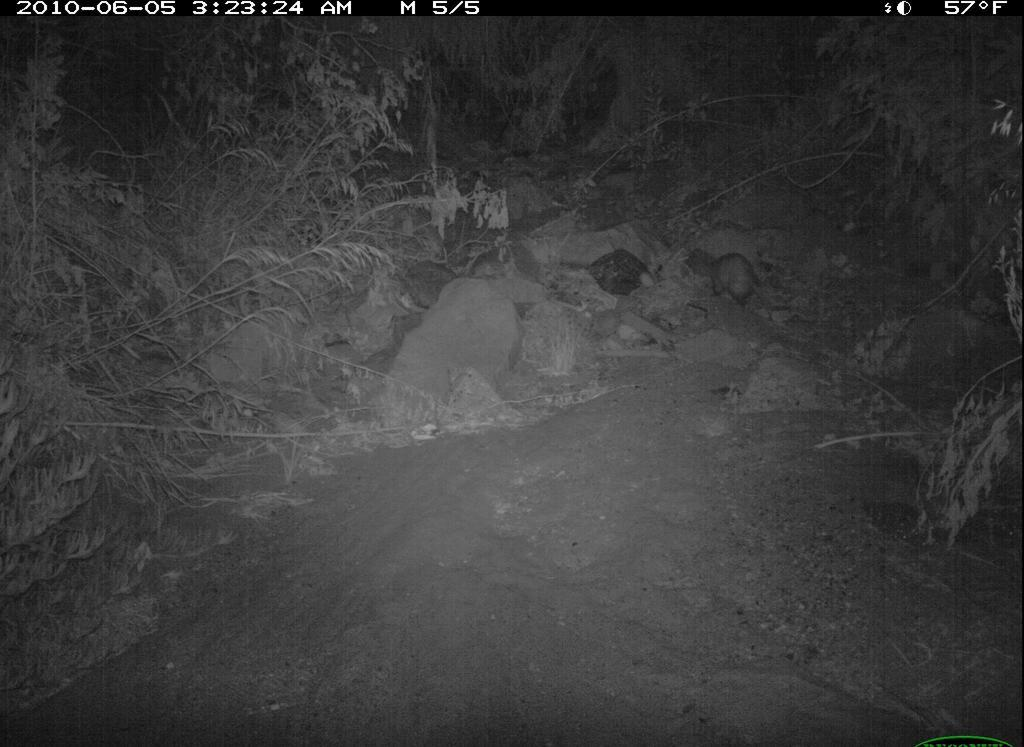opossum: (691, 245, 781, 329)
